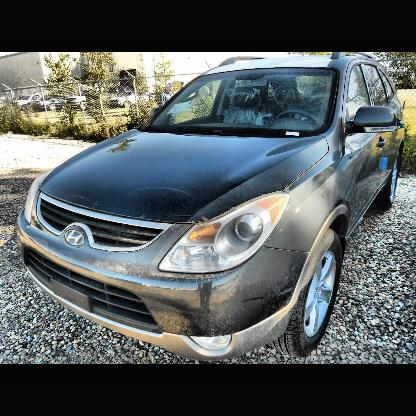Hyundai Veracruz SUV 2012: (16, 53, 406, 363)
